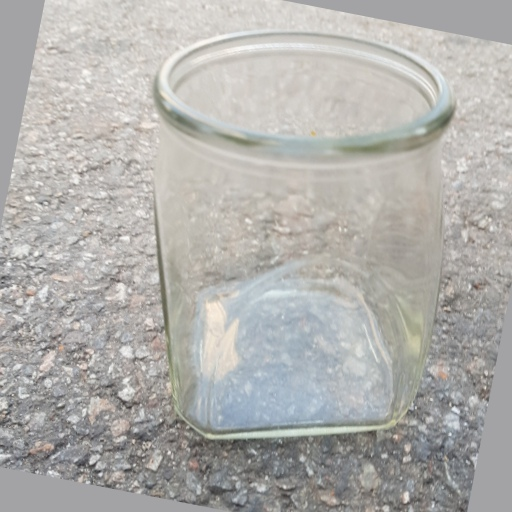Glass_5: (142, 27, 454, 446)
